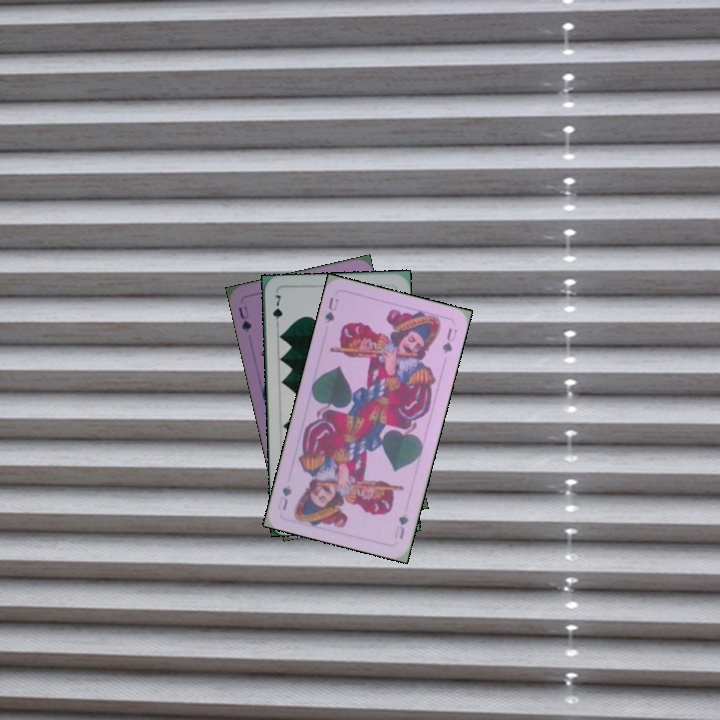G7: (269, 291, 285, 331)
GU: (320, 293, 341, 326), (390, 510, 411, 541), (235, 302, 254, 335)
